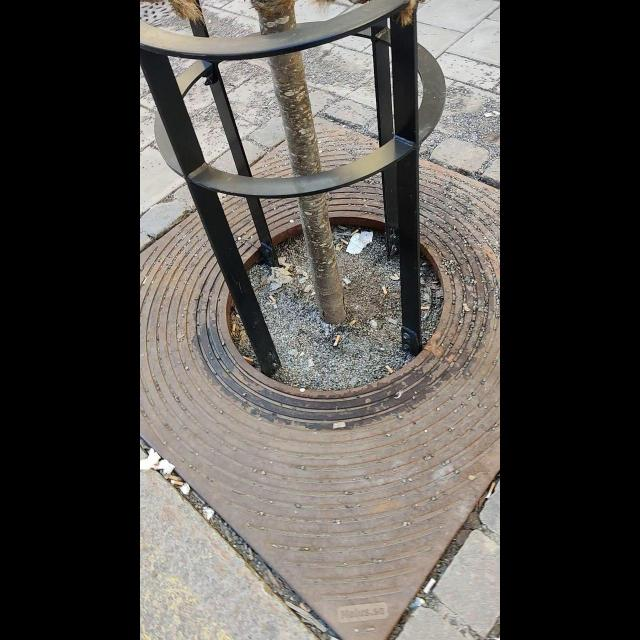cigarette: (424, 578, 436, 596), (486, 481, 495, 500), (342, 276, 353, 286), (333, 421, 346, 429), (461, 303, 472, 311), (166, 473, 180, 479), (386, 364, 394, 374), (171, 480, 184, 486), (348, 228, 358, 235), (334, 334, 339, 347), (349, 320, 357, 328), (340, 238, 349, 245), (381, 286, 388, 294), (244, 357, 254, 362), (270, 294, 276, 302), (308, 359, 312, 369), (393, 274, 399, 280), (420, 305, 430, 308), (233, 323, 236, 331)
